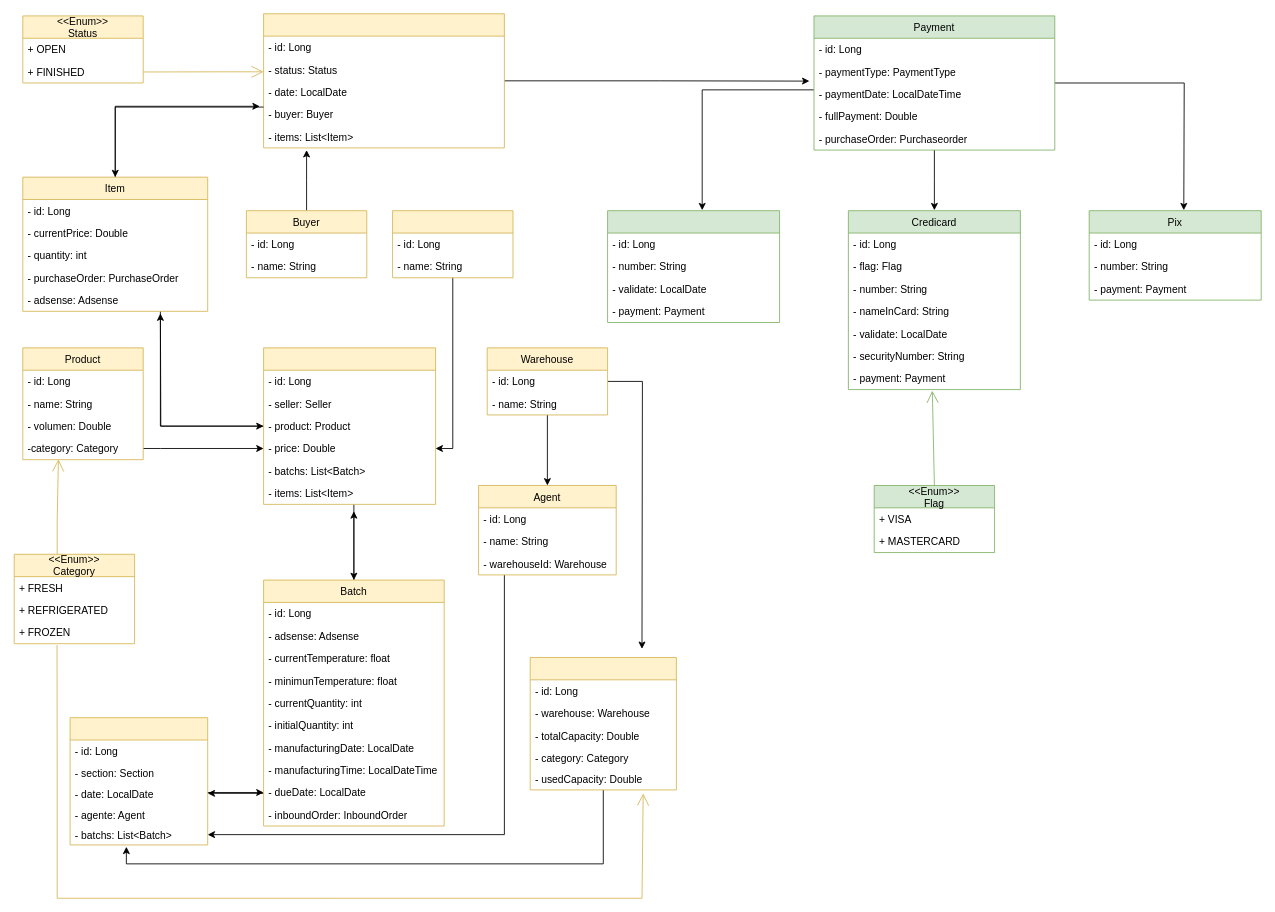
This 1275x912 diagram has some shape labels left out. The shapes that lost their labels are listed below. From the top down, each one's box as (x1, y1, x2, y2) in pixels, then its label:
(263, 13, 504, 148): PurchaseOrder
(392, 210, 513, 278): Seller
(607, 210, 780, 322): Ticket
(263, 347, 436, 504): Adsense
(529, 657, 676, 790): Section
(69, 717, 208, 845): InBoundOrder
